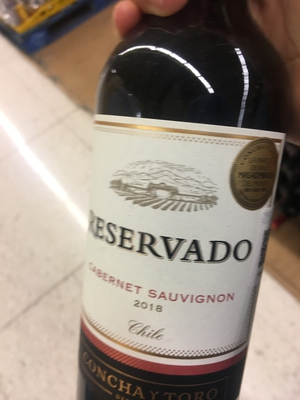reservado cabernet sauvignon: (83, 14, 283, 400)
